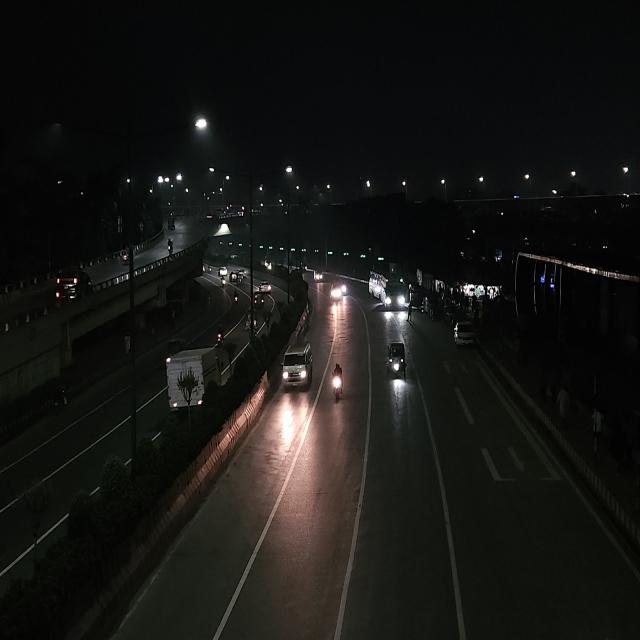bus: (368, 268, 408, 312)
car: (280, 338, 316, 394), (53, 264, 94, 305), (452, 318, 476, 350), (258, 278, 272, 294), (314, 270, 324, 287)
cng: (385, 338, 407, 381), (329, 284, 343, 301), (167, 216, 176, 232), (237, 274, 244, 286)
motorcycle: (329, 361, 346, 407), (213, 323, 224, 346), (252, 291, 264, 307), (232, 287, 240, 306), (166, 238, 174, 257), (219, 274, 226, 290)
pedestrian: (406, 301, 413, 323)
truck: (160, 348, 227, 403)
